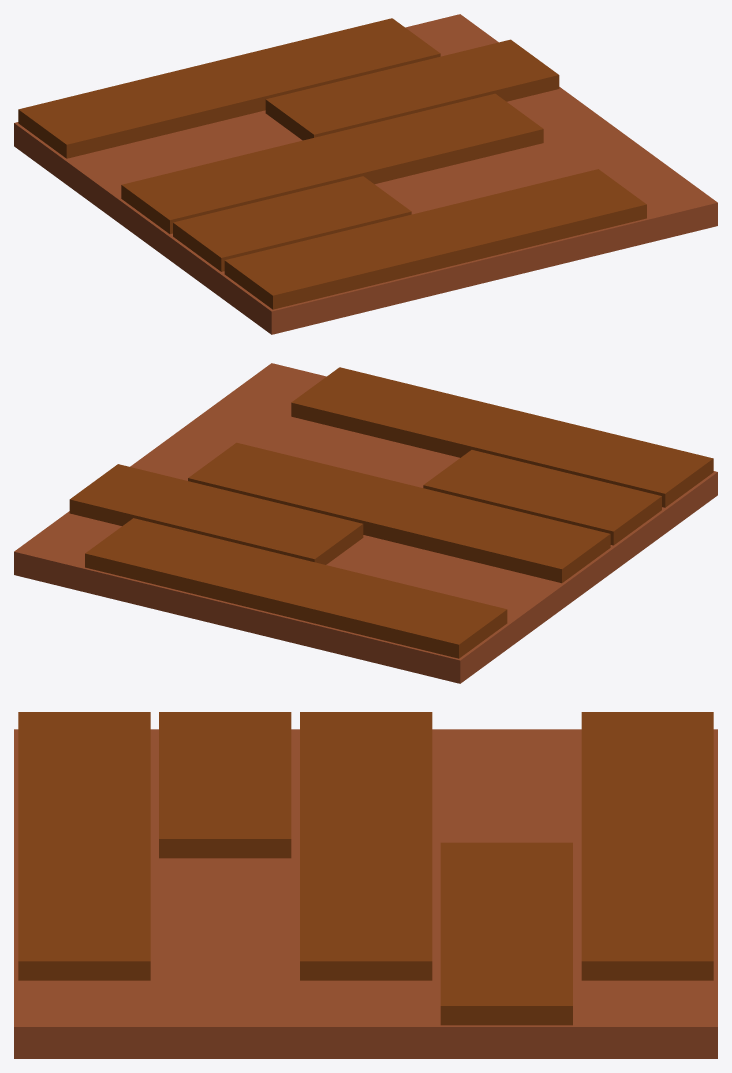
Rendered from Prop_Tile_Terrain_Dungeon_Timber_Panel_11.FBX.
3 renders of one model, top to bottom at view 1: azimuth 30°, elevation 25°; view 2: azimuth 150°, elevation 25°; view 3: azimuth 270°, elevation 25°, orthographic. The views are drawn at different scales.
Visible parts, largest first — view 1: Prop_Tile_Terrain_Dungeon_Timber_Panel_11; view 2: Prop_Tile_Terrain_Dungeon_Timber_Panel_11; view 3: Prop_Tile_Terrain_Dungeon_Timber_Panel_11.
Boxes of the visible parts, box(x1,y1,x2,y2) form: Prop_Tile_Terrain_Dungeon_Timber_Panel_11: box(14, 14, 717, 334); Prop_Tile_Terrain_Dungeon_Timber_Panel_11: box(14, 363, 717, 683); Prop_Tile_Terrain_Dungeon_Timber_Panel_11: box(14, 712, 717, 1058).
Size of the model in its own units: 3000 by 240 by 3000.
